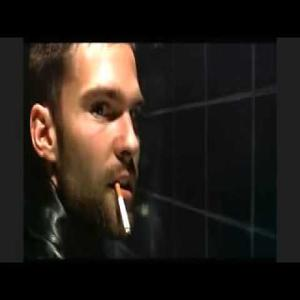cigarette: (94, 179, 152, 240)
